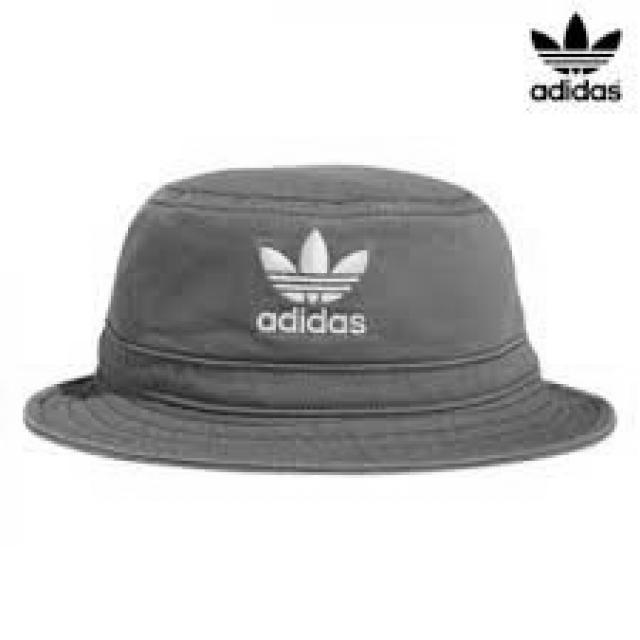Adidas: (239, 214, 381, 322), (518, 0, 632, 88)
